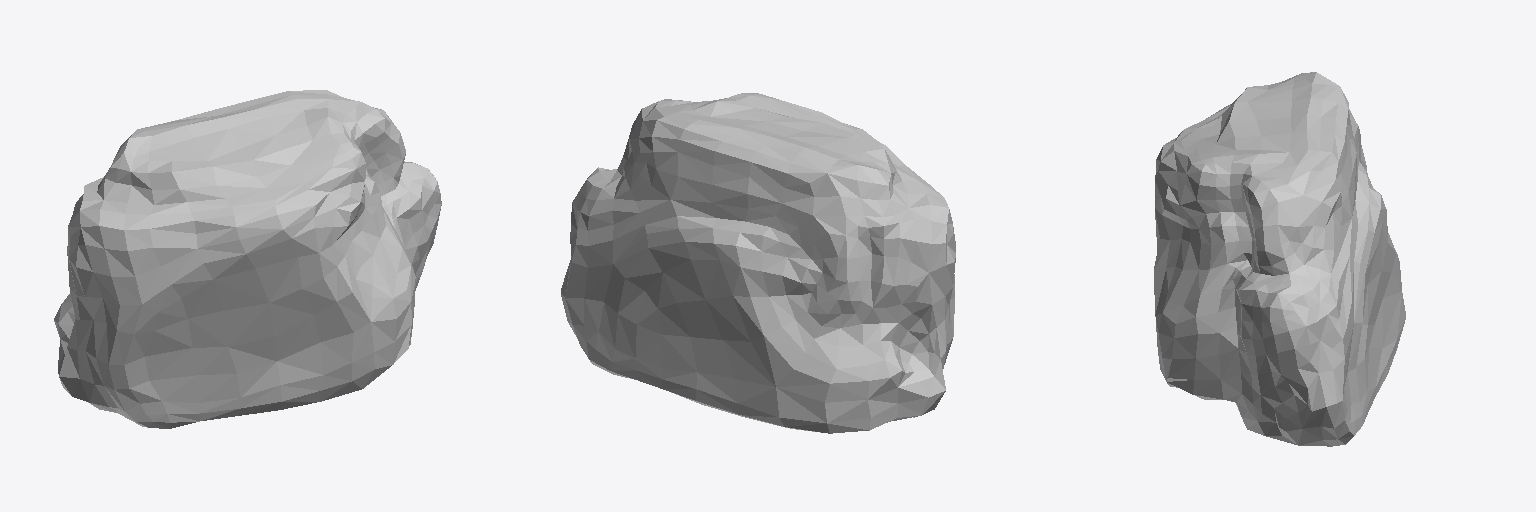
Rendered from rock1.obj.
The picture shows the model from 3 angles: view 1: azimuth 30°, elevation 25°; view 2: azimuth 150°, elevation 25°; view 3: azimuth 270°, elevation 25°; orthographic projection.
Visible parts, largest first — view 1: Rock_1; view 2: Rock_1; view 3: Rock_1.
Boxes of the visible parts, x1=… form: Rock_1: x1=54, y1=90, x2=441, y2=428; Rock_1: x1=561, y1=93, x2=955, y2=433; Rock_1: x1=1154, y1=72, x2=1405, y2=446.
Size of the model in its own units: 5.72 by 3.89 by 3.34.